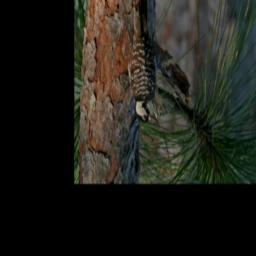Woodpecker: (120, 0, 160, 124)
